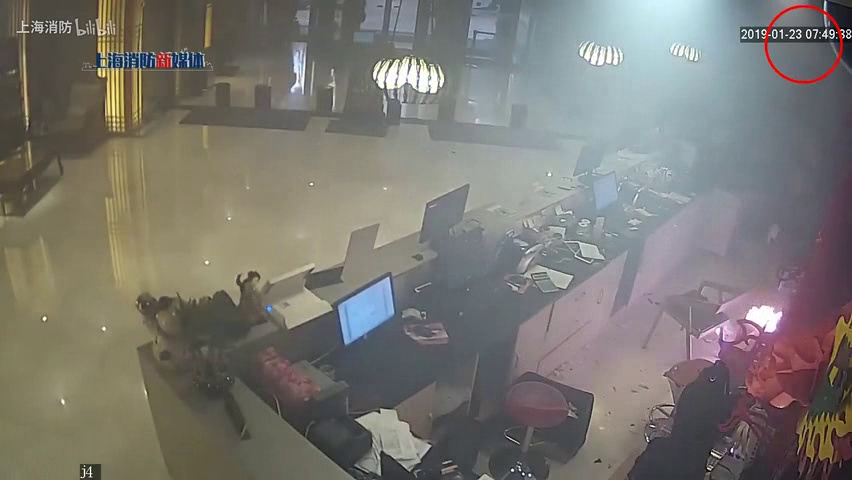fire: (740, 298, 785, 337)
